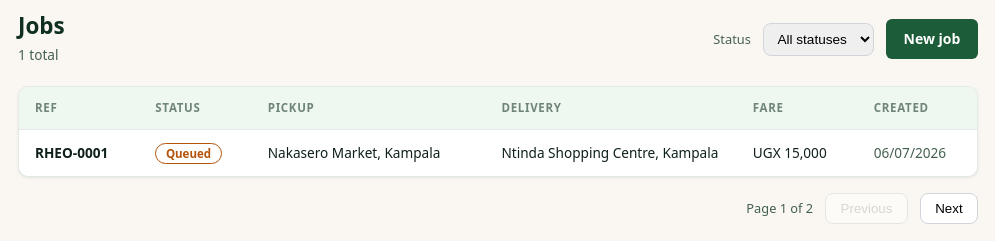
Scenario: pagination honors meta: Next enabled by hasNext and requests page=2
The width and height of the screenshot is (995, 241).
expect the button "Previous" is disabled: met, box [825,193,908,224]
Click the button "Next" at (949, 208), box [920,193,978,224]
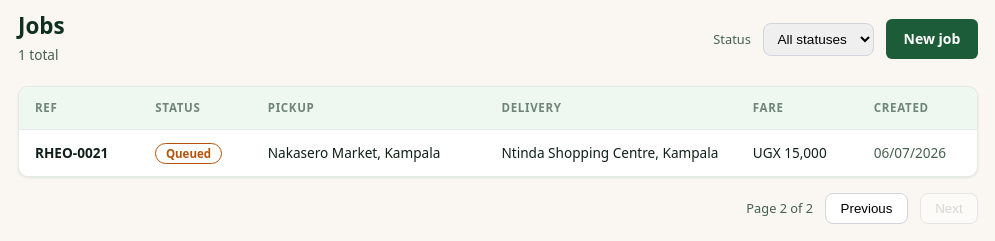
expect the text "RHEO-0021" is shown: met, box [19,130,139,176]
